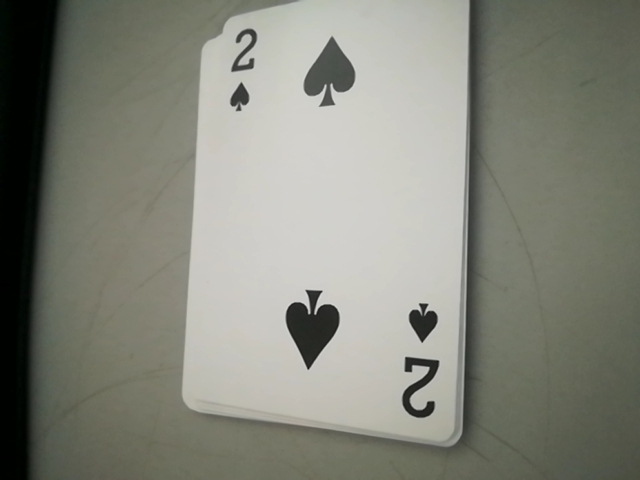ht 2: (397, 302, 452, 427), (208, 22, 278, 120)
